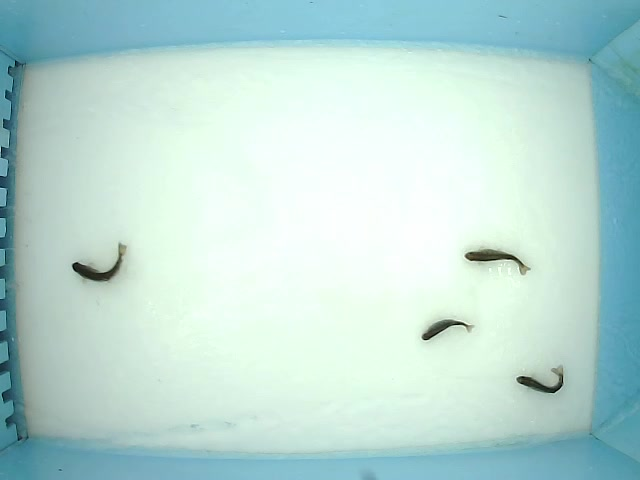fish: (70, 239, 131, 284), (463, 246, 532, 278), (514, 363, 564, 394), (420, 316, 476, 343)
